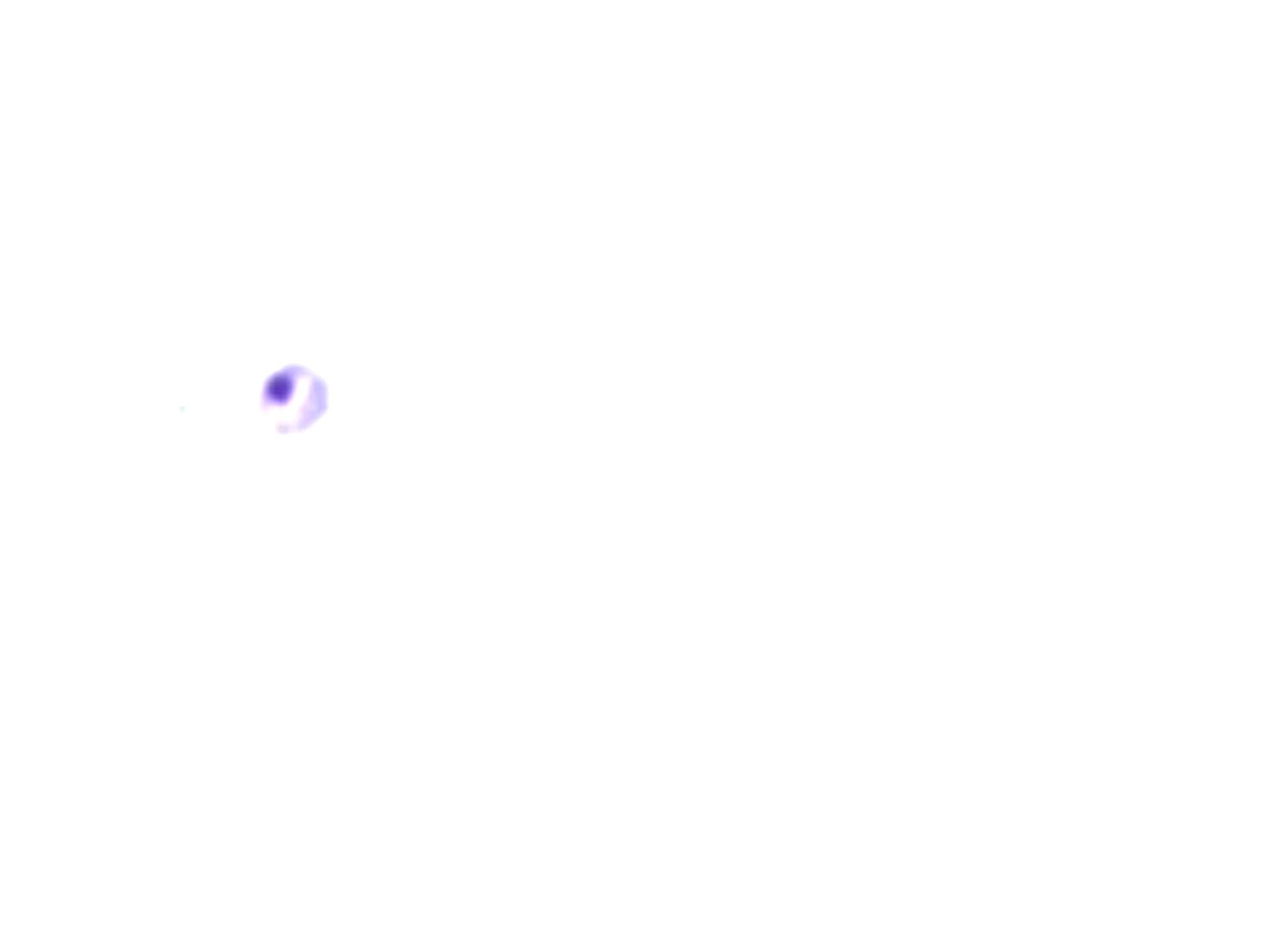Infected: (251, 358, 337, 438)
